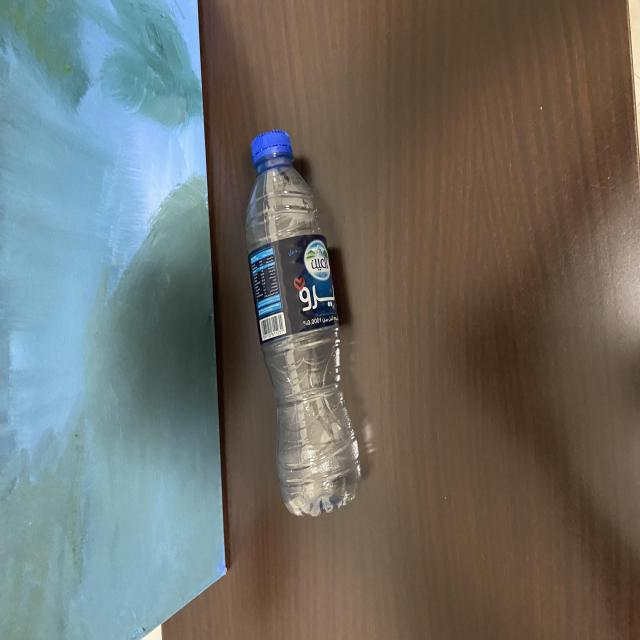plastic: (242, 124, 365, 522)
